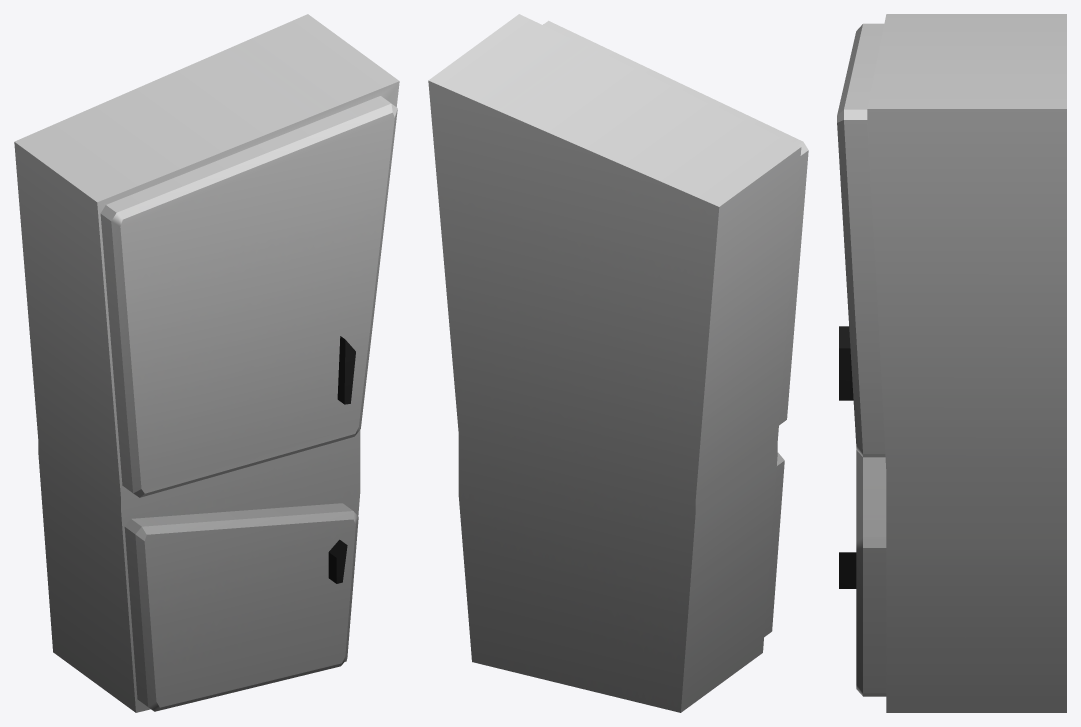
The model's file is frigo.fbx.
The picture shows the model from 3 angles, left to right: view 1: azimuth 30°, elevation 25°; view 2: azimuth 150°, elevation 25°; view 3: azimuth 270°, elevation 25°; orthographic projection. The views are drawn at different scales.
Parts seen in each view (by area): view 1: SM_frigo; view 2: SM_frigo; view 3: SM_frigo.
Boxes of the visible parts, left/top/right/bottom form: SM_frigo: left=14, top=14, right=399, bottom=712; SM_frigo: left=428, top=14, right=808, bottom=712; SM_frigo: left=837, top=14, right=1066, bottom=712.
Bounding box in the file's own units: 205 × 383 × 127.
